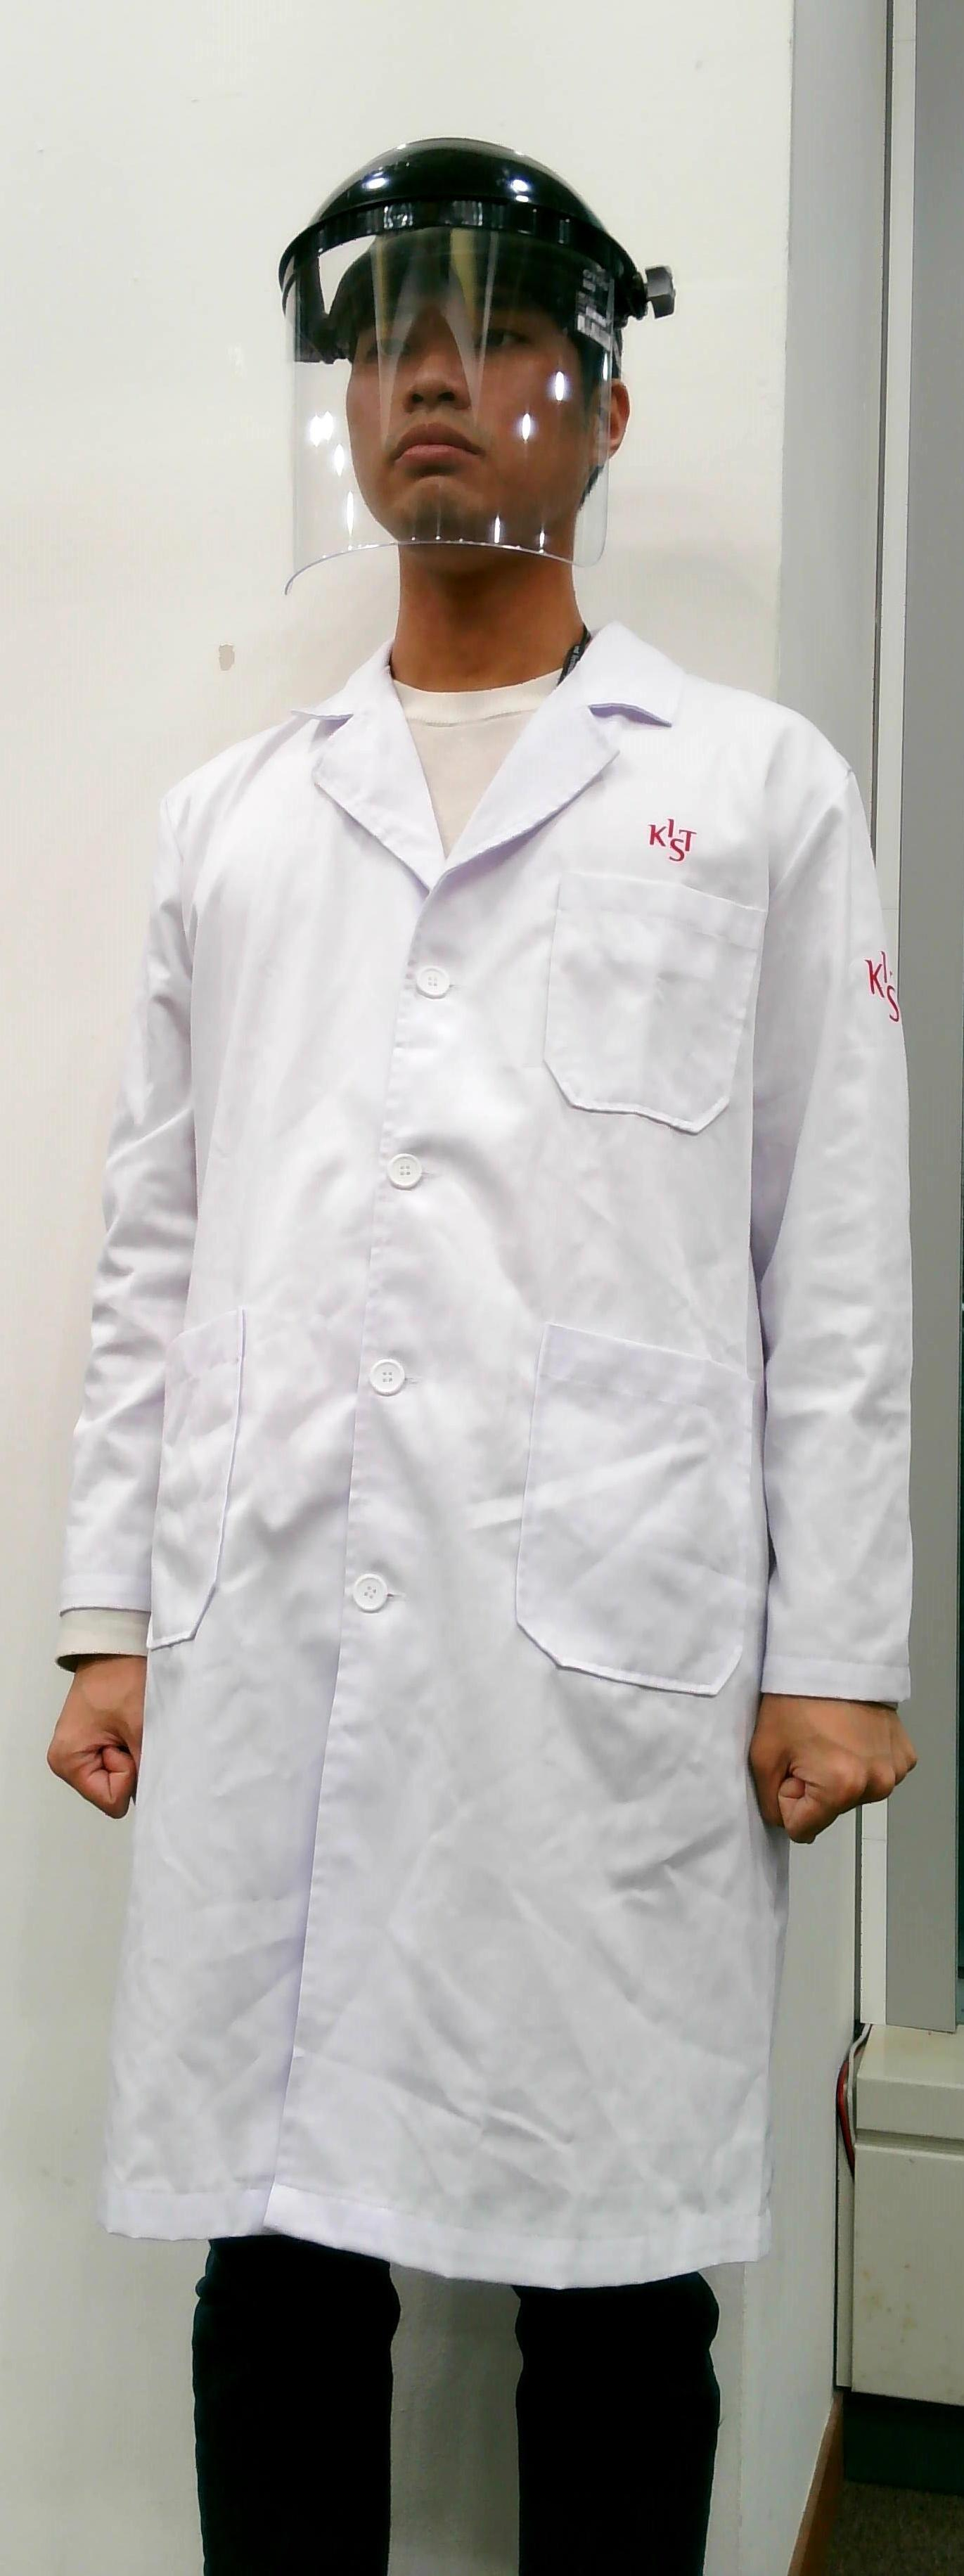lab_coat: (163, 628, 757, 2261)
